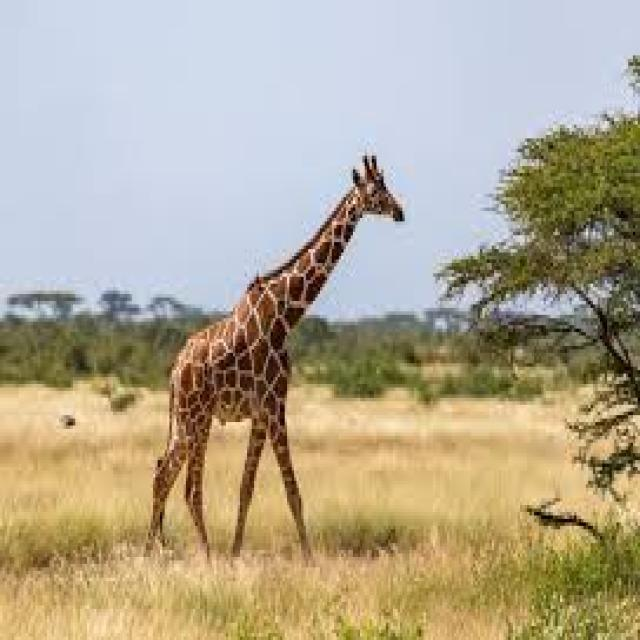Giraffe: (136, 128, 416, 566)
